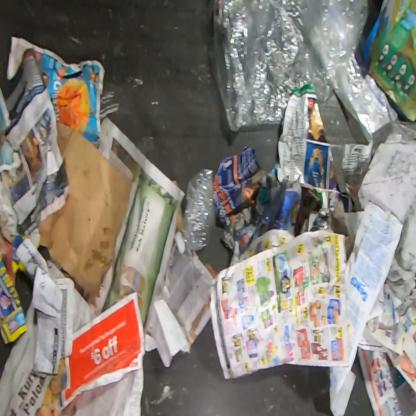rigid_plastic: (174, 168, 216, 255)
soft_plastic: (213, 0, 399, 136)
